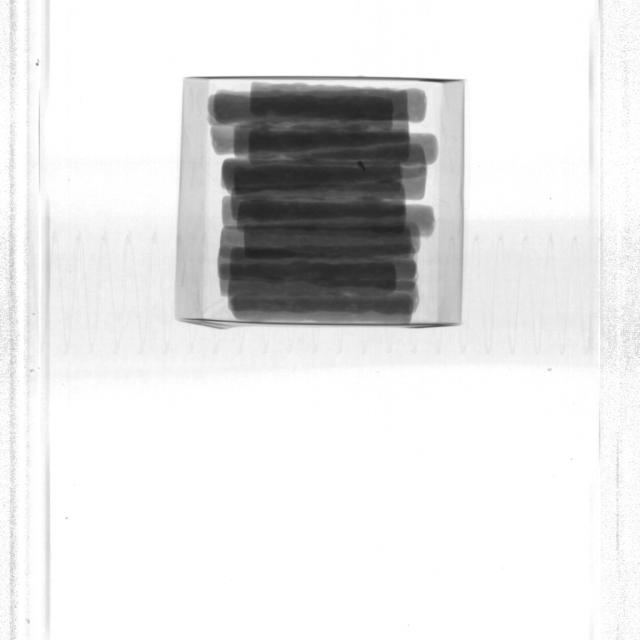ym: (358, 161, 369, 174)
